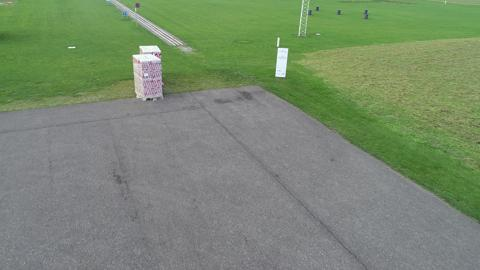RockwoolPallet: (138, 45, 161, 61)
